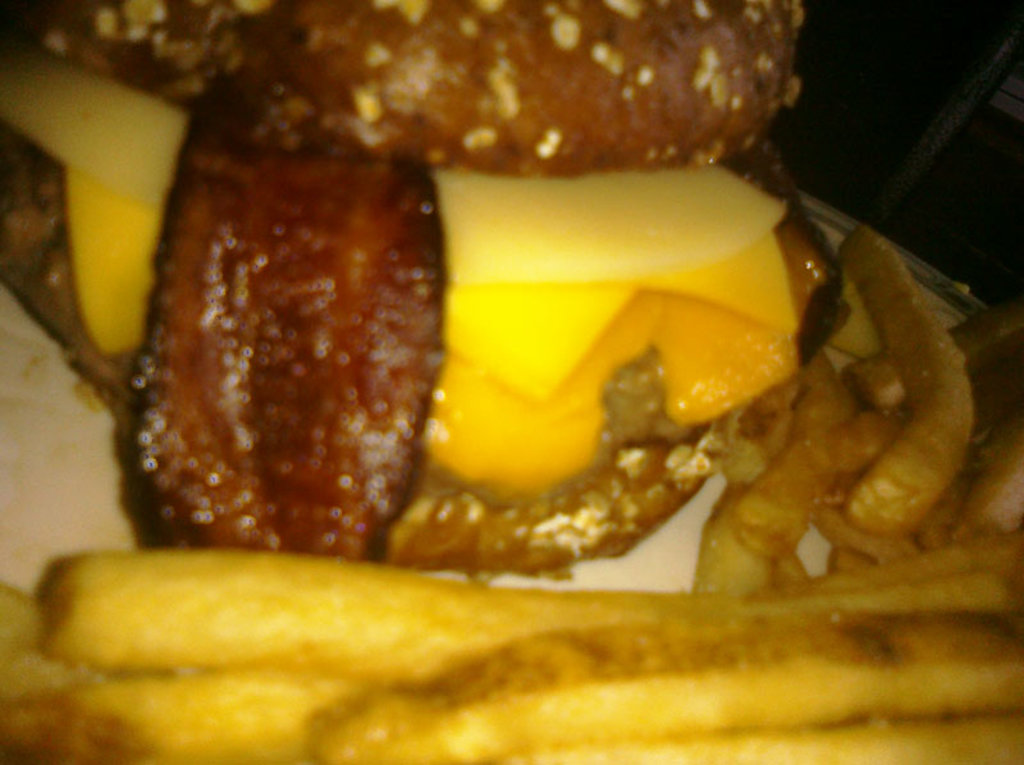French fries: (0, 227, 1023, 764)
